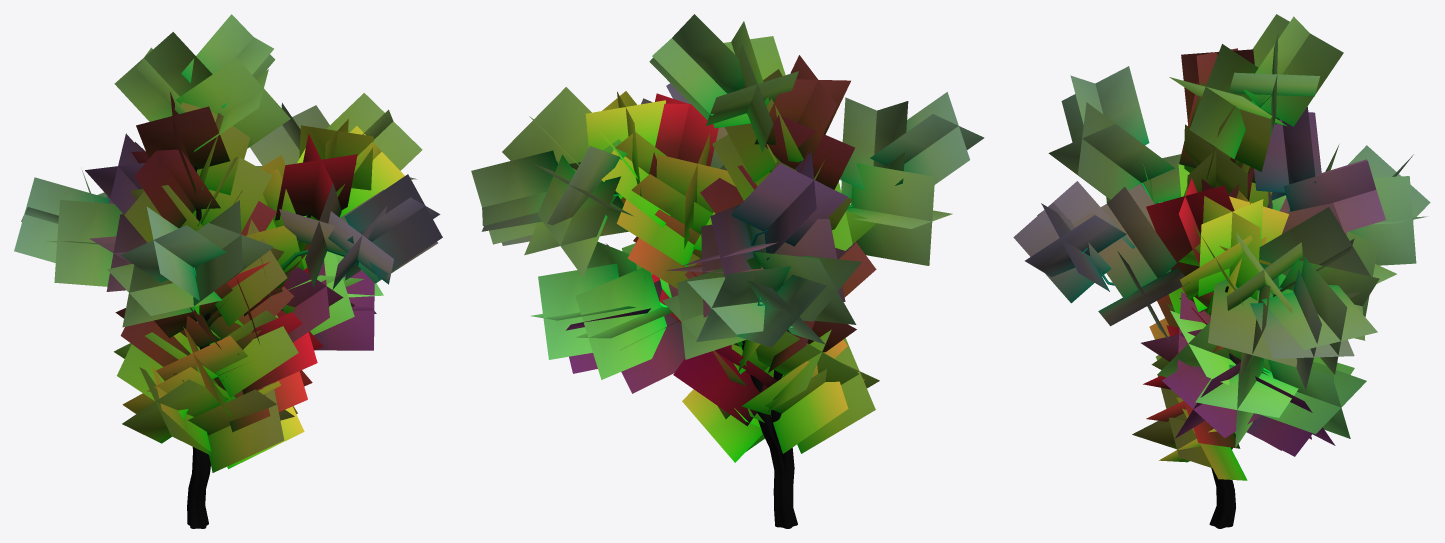
The model's file is URP_P3_Tree_12_LOD_0.fbx.
3 views of the same model, side by side, from view 1: azimuth 30°, elevation 25°; view 2: azimuth 150°, elevation 25°; view 3: azimuth 270°, elevation 25° (orthographic). The views are drawn at different scales.
Visible parts, largest first — view 1: Tree_12_LOD_0; view 2: Tree_12_LOD_0; view 3: Tree_12_LOD_0.
Boxes of the visible parts, <box> form: Tree_12_LOD_0: <box>14,14,442,528</box>; Tree_12_LOD_0: <box>471,14,984,528</box>; Tree_12_LOD_0: <box>1013,14,1430,528</box>.
Bounding box in the file's own units: 536 × 662 × 479.
